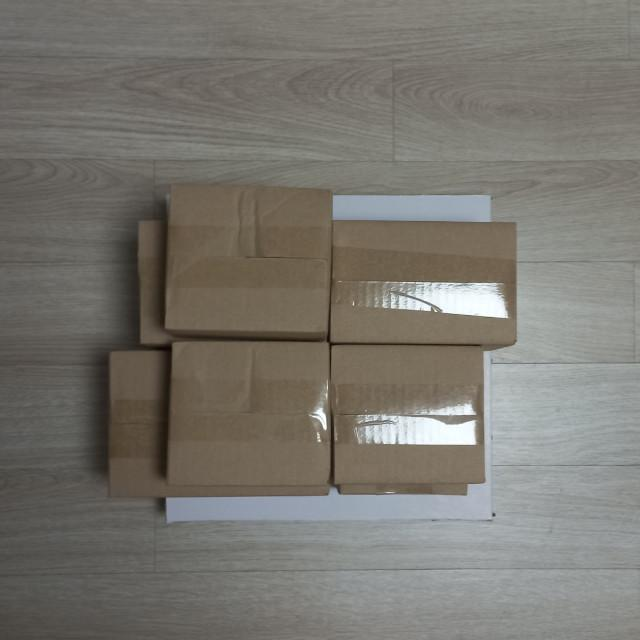box: (165, 180, 333, 340), (162, 337, 335, 491), (328, 217, 522, 347), (328, 340, 490, 488)
